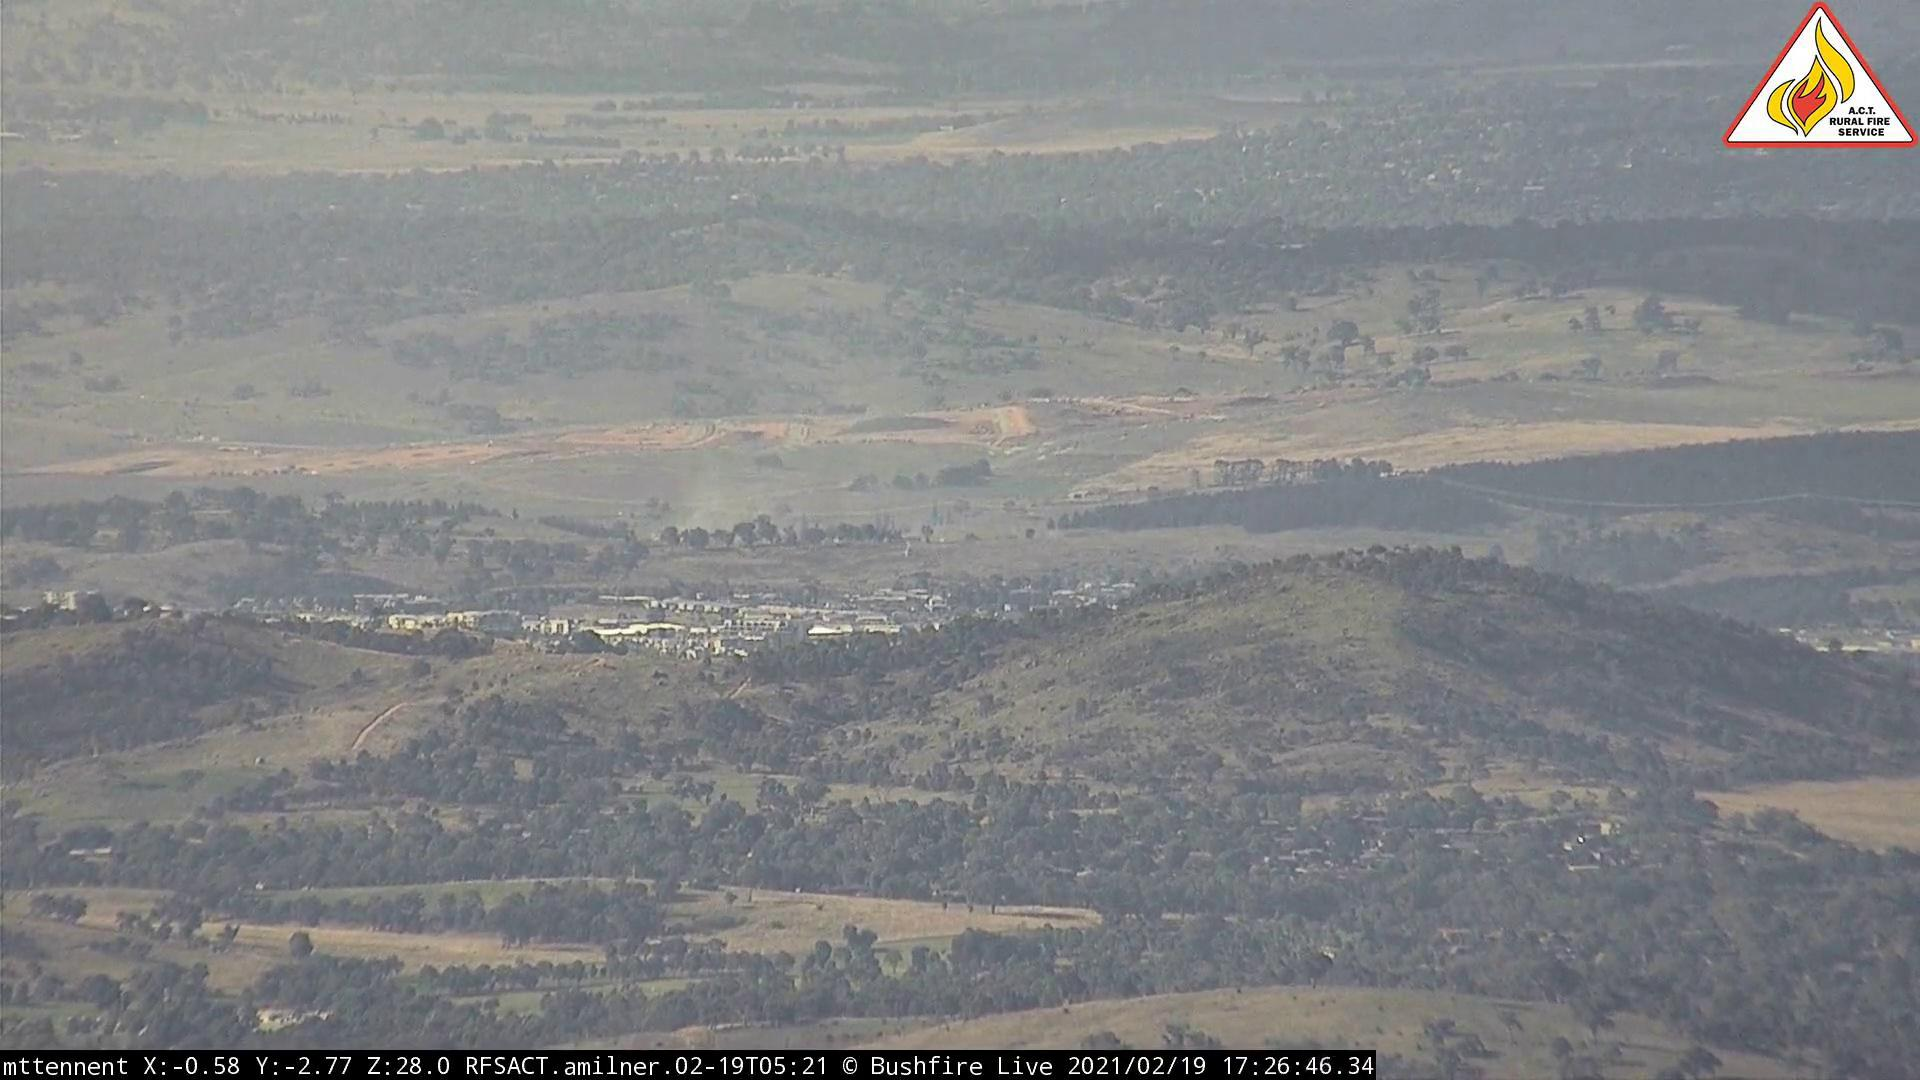Smoke: (659, 451, 814, 542)
